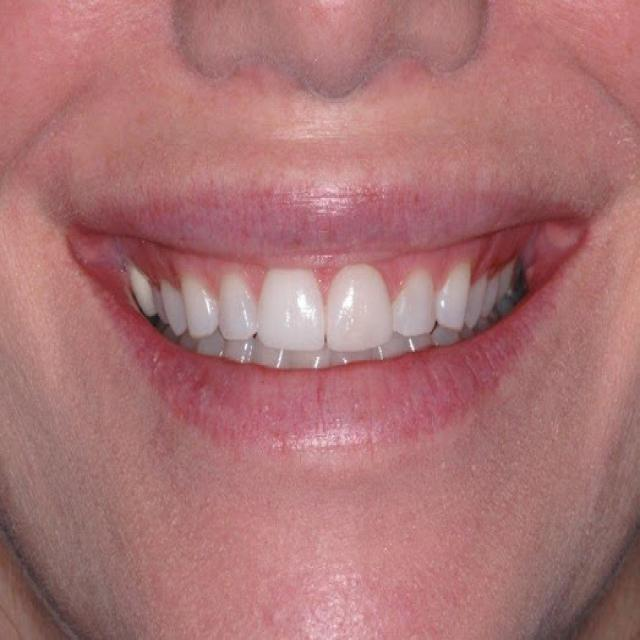tooth: (321, 267, 384, 344), (264, 275, 314, 349), (215, 274, 261, 340), (482, 245, 515, 316), (125, 272, 163, 322), (156, 270, 178, 347), (446, 268, 472, 328), (185, 277, 210, 332), (393, 288, 426, 329), (474, 275, 486, 326)
